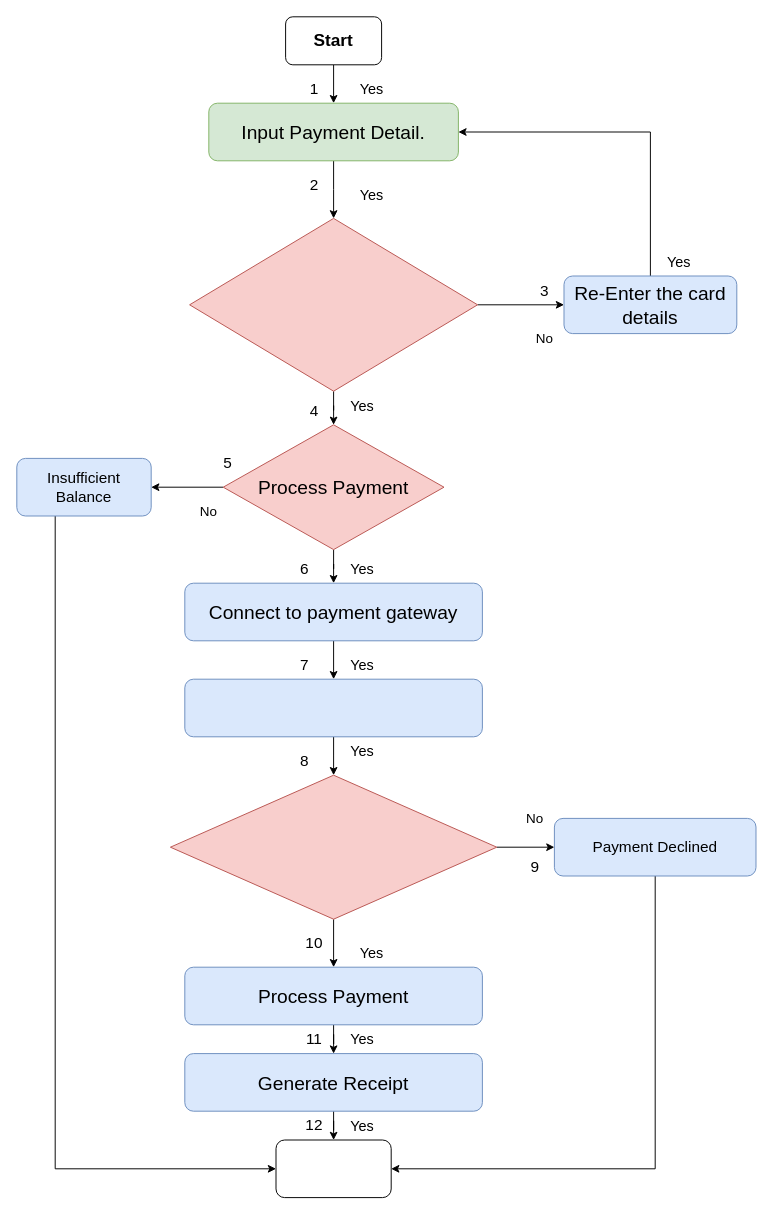
The diagram is 773 pixels wide and 1214 high, and some of its shapes have lost their labels. Here are the shapes that lost their labels. From the top down, the centre of each, then its label:
At point (333, 304): "Validate Payment details".
At point (333, 707): "Authorize Payment".
At point (333, 846): "Check Authorization Details".
At point (333, 1168): "END".
